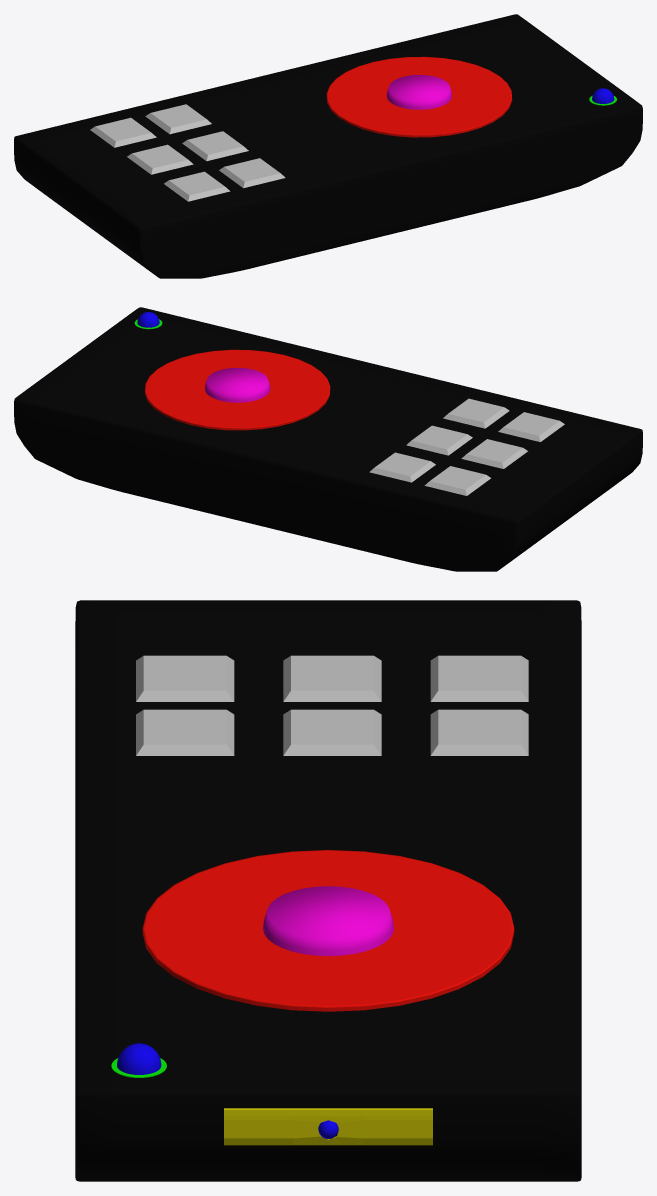
Rendered from Mando.fbx.
3 views of the same model, one above another, from view 1: azimuth 30°, elevation 25°; view 2: azimuth 150°, elevation 25°; view 3: azimuth 270°, elevation 25° (orthographic). The views are drawn at different scales.
Visible parts, largest first — view 1: Mando_Base.005, Main_Button.001; view 2: Mando_Base.005, Main_Button.001; view 3: Mando_Base.005, Main_Button.001.
Boxes of the visible parts, left/top/right/bottom form: Mando_Base.005: left=14, top=14, right=642, bottom=278; Main_Button.001: left=386, top=75, right=452, bottom=109; Mando_Base.005: left=14, top=307, right=642, bottom=571; Main_Button.001: left=205, top=367, right=270, bottom=402; Mando_Base.005: left=75, top=600, right=581, bottom=1181; Main_Button.001: left=263, top=886, right=393, bottom=956.
Size of the model in its own units: 12.31 by 1.96 by 5.3.
